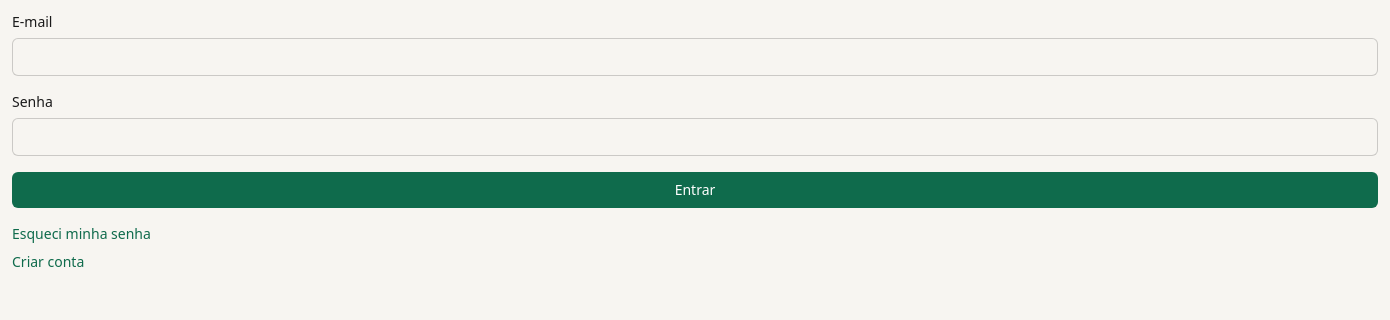
it: LoginForm (LOG-05, LOG-06, LOG-08, LOG-10, LOG-13) › shows pending deletion message for 403 ACCOUNT_PENDING_DELETION
Type "user@example.com" into the field labelled "E-mail".
click(695, 57); type("user@example.com")  # box [12,38,1378,76]
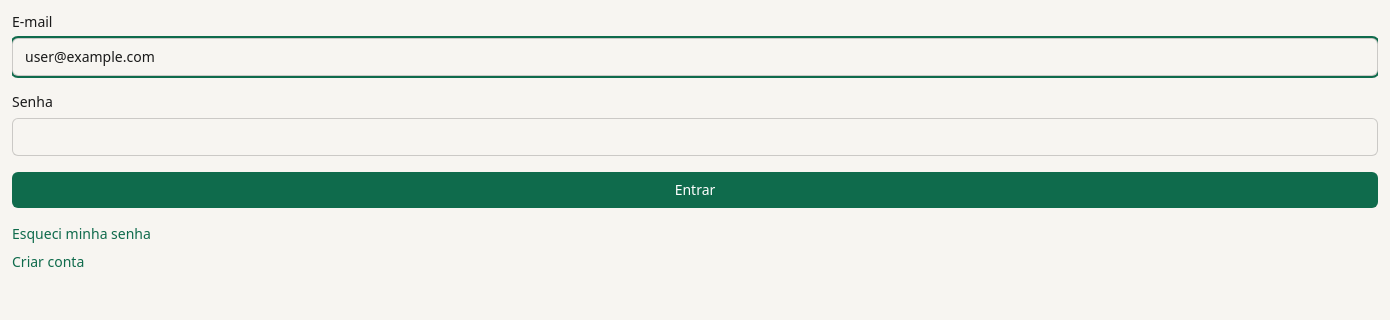
Type "secret" into the password field labelled "Senha".
click(695, 137); type("secret")  # box [12,118,1378,156]
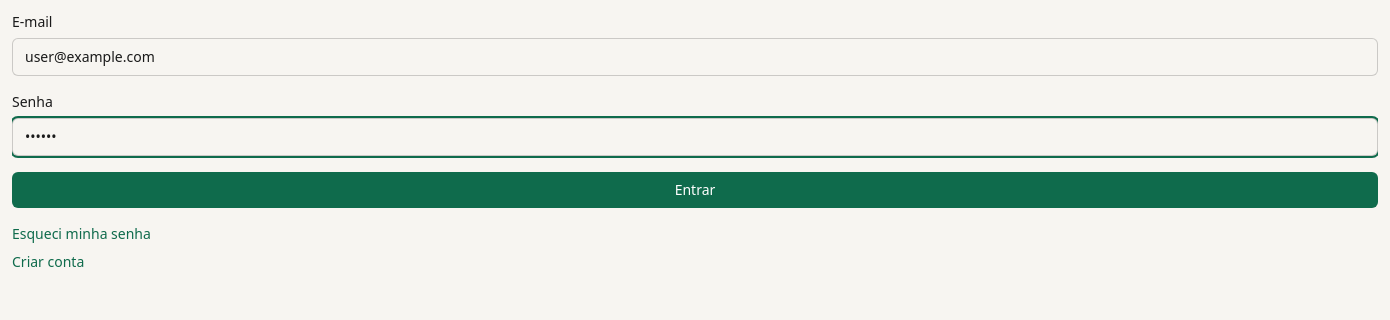
Click the button "Entrar".
click(695, 190)  # box [12,172,1378,208]
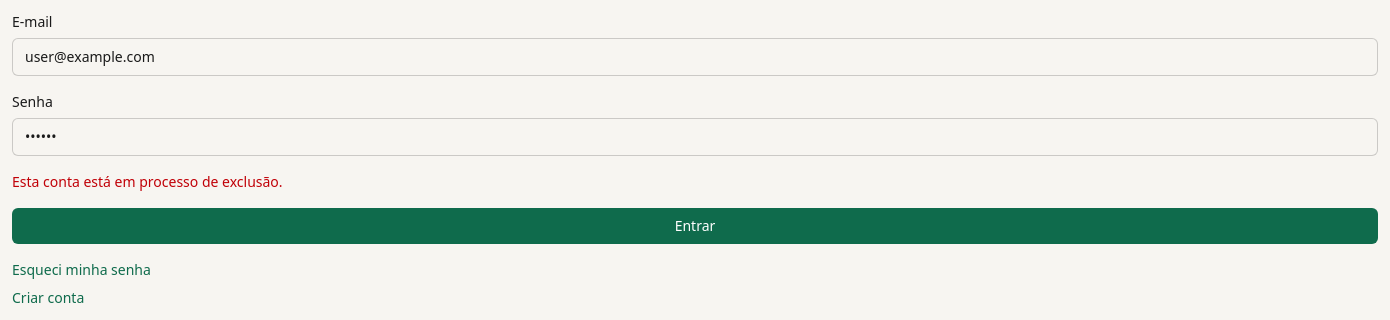
Expected: the message reads "Esta conta está em processo de exclusão.", [12,172,283,191]
